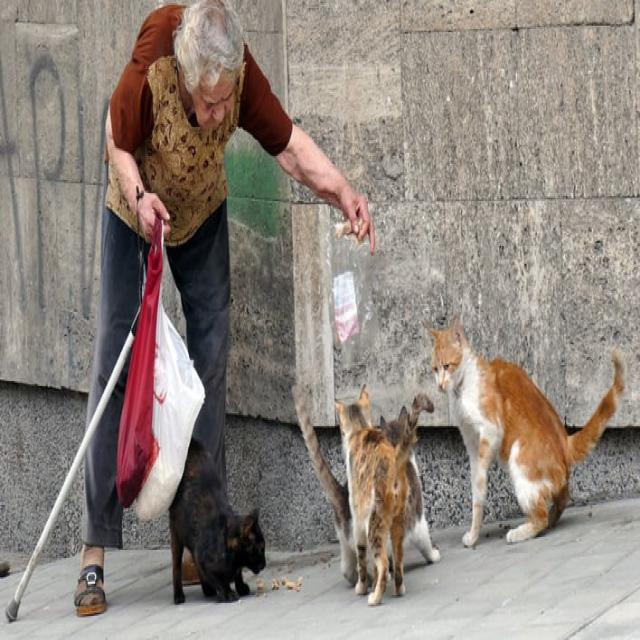cat: (432, 316, 625, 547), (336, 387, 432, 604), (170, 443, 265, 604), (292, 387, 361, 588), (405, 445, 440, 563), (365, 407, 409, 449)
